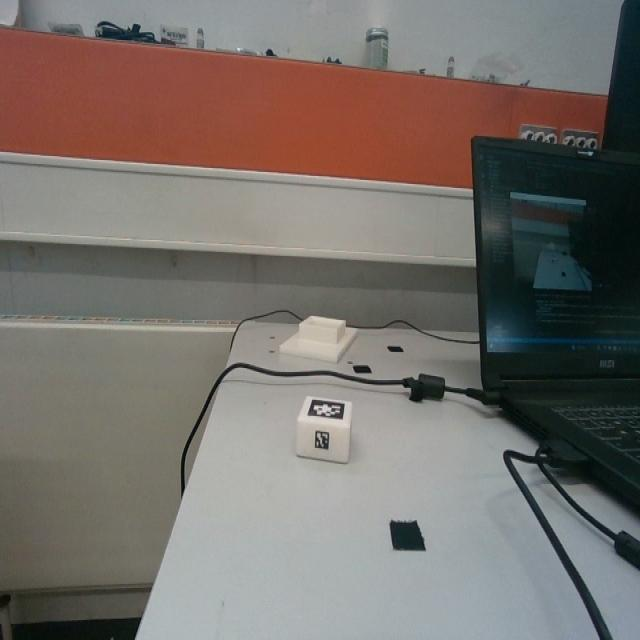Cube: (296, 396, 352, 464)
